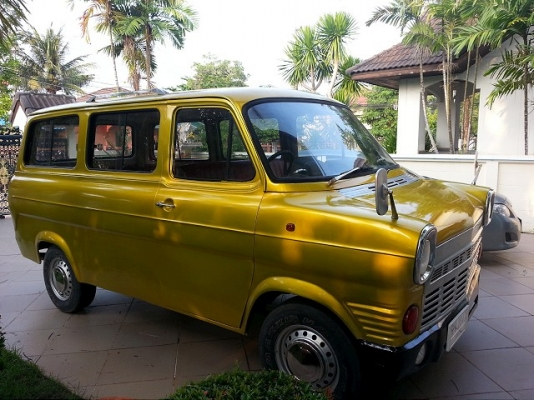van: (5, 85, 495, 386)
